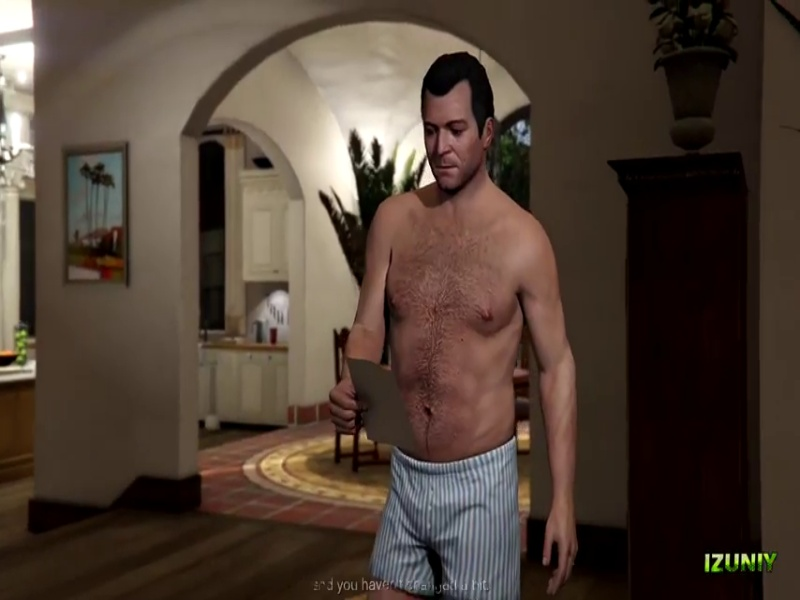human: (328, 57, 575, 593)
